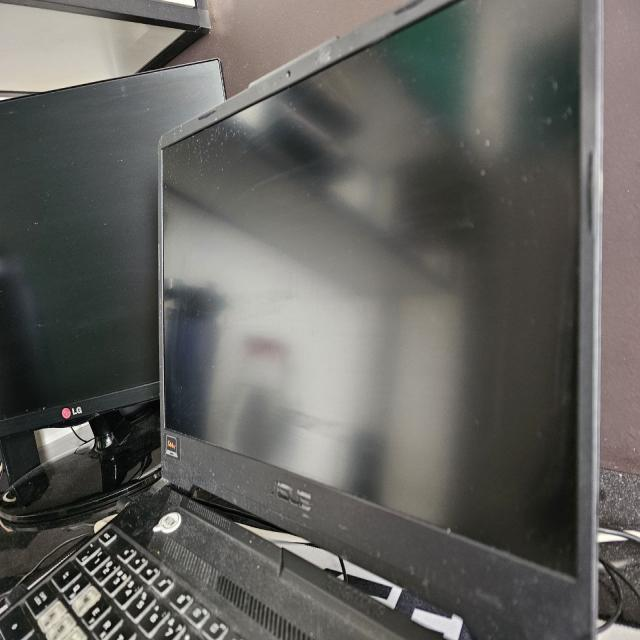scratch: (231, 158, 351, 190)
